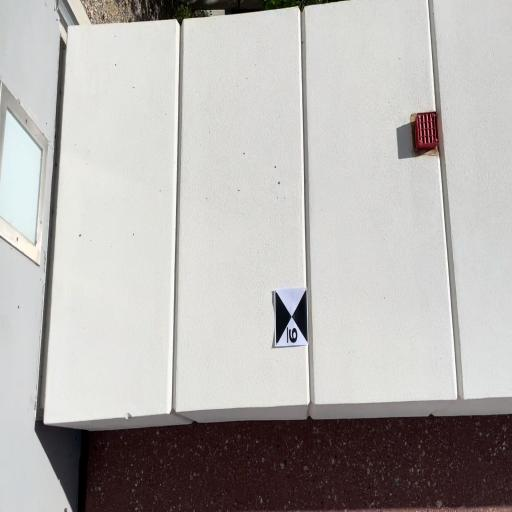target9: (273, 287, 309, 346)
